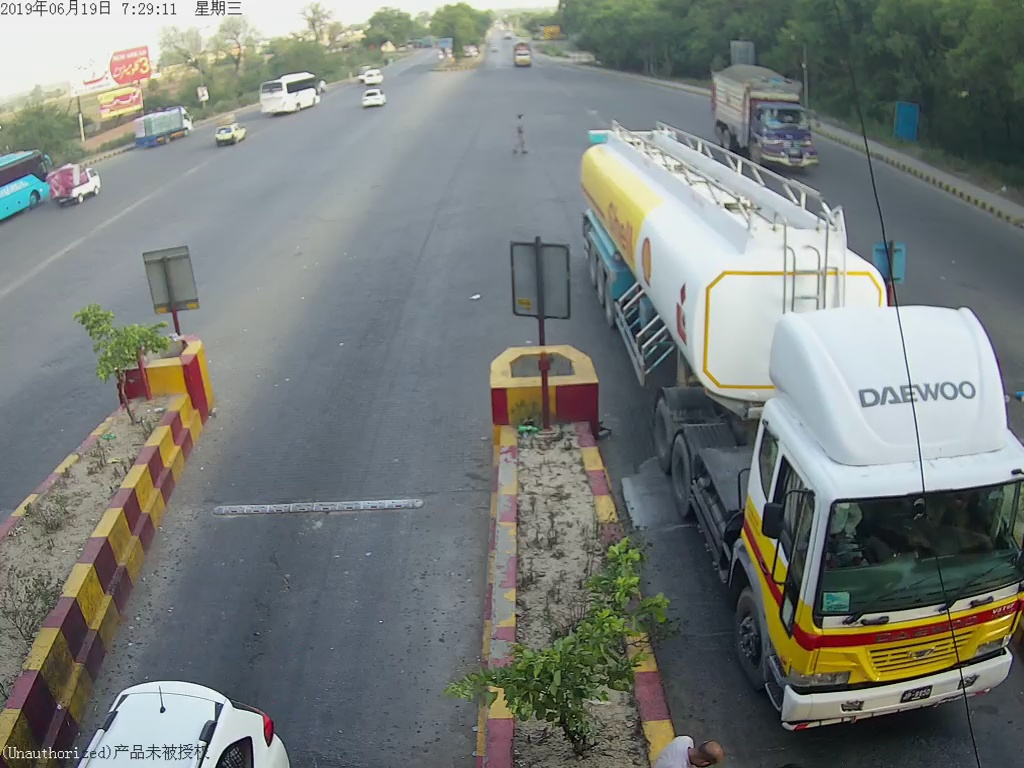Cat-5: (569, 117, 1024, 734)
